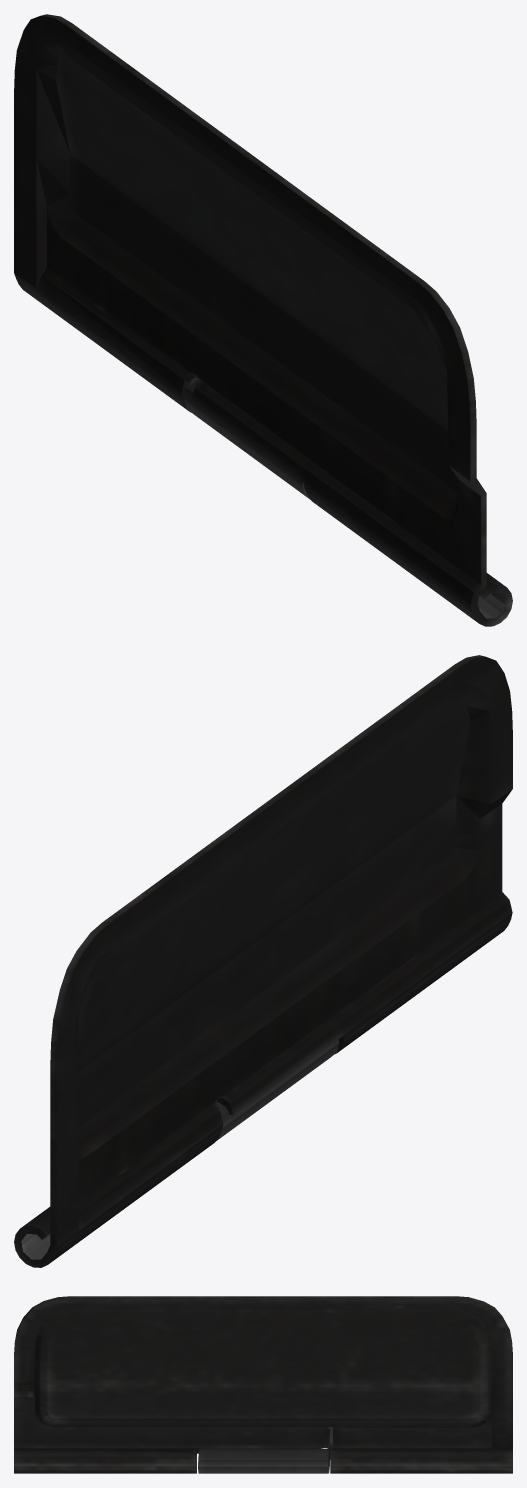
3 renders of one model, top to bottom at view 1: azimuth 30°, elevation 25°; view 2: azimuth 150°, elevation 25°; view 3: azimuth 270°, elevation 25°, orthographic. The views are drawn at different scales.
Parts seen in each view (by area): view 1: TW_64637076203536ad5600c990_PZ_Import; view 2: TW_64637076203536ad5600c990_PZ_Import; view 3: TW_64637076203536ad5600c990_PZ_Import.
Part boxes in pixels (bbox=[...]): TW_64637076203536ad5600c990_PZ_Import: bbox=[14, 14, 512, 626]; TW_64637076203536ad5600c990_PZ_Import: bbox=[14, 655, 512, 1267]; TW_64637076203536ad5600c990_PZ_Import: bbox=[14, 1296, 512, 1473].
Bounding box in the file's own units: 0.00287 × 0.0529 × 0.0199.
Materials: 1 (1 with a texture image).
